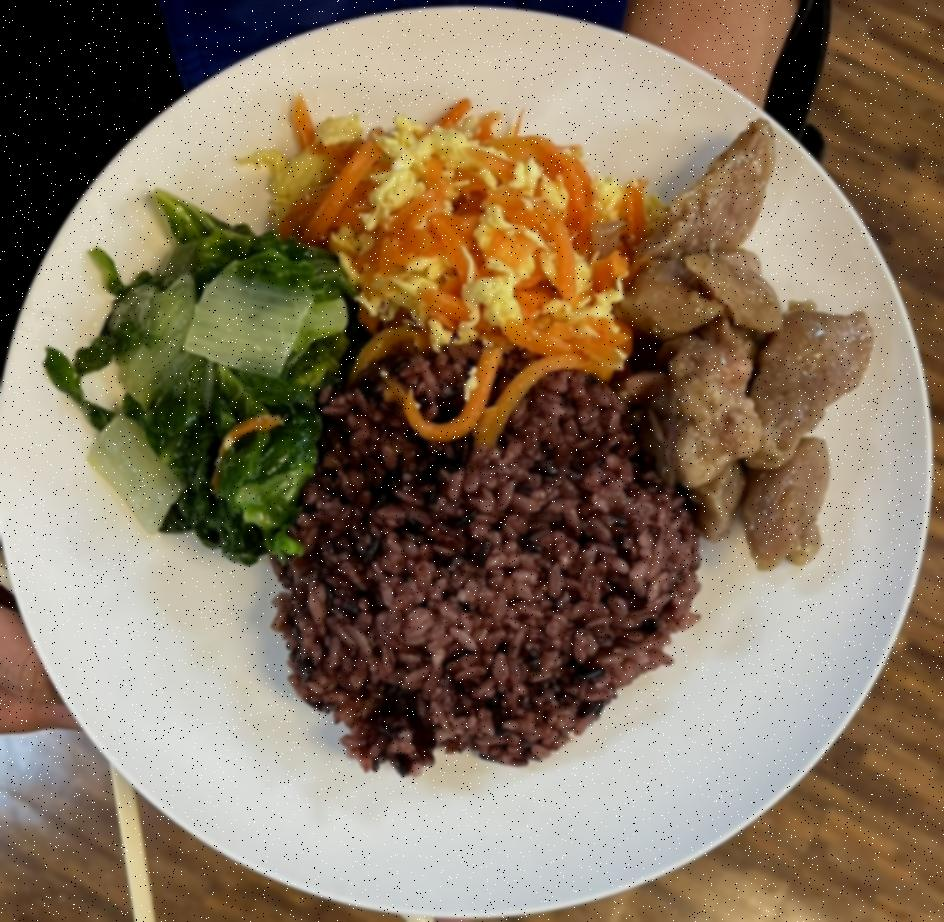garlic white meat: (622, 111, 880, 568)
plate: (4, 8, 944, 922)
purple rice: (274, 348, 693, 768)
side dish: (248, 102, 646, 372), (44, 200, 338, 558)
